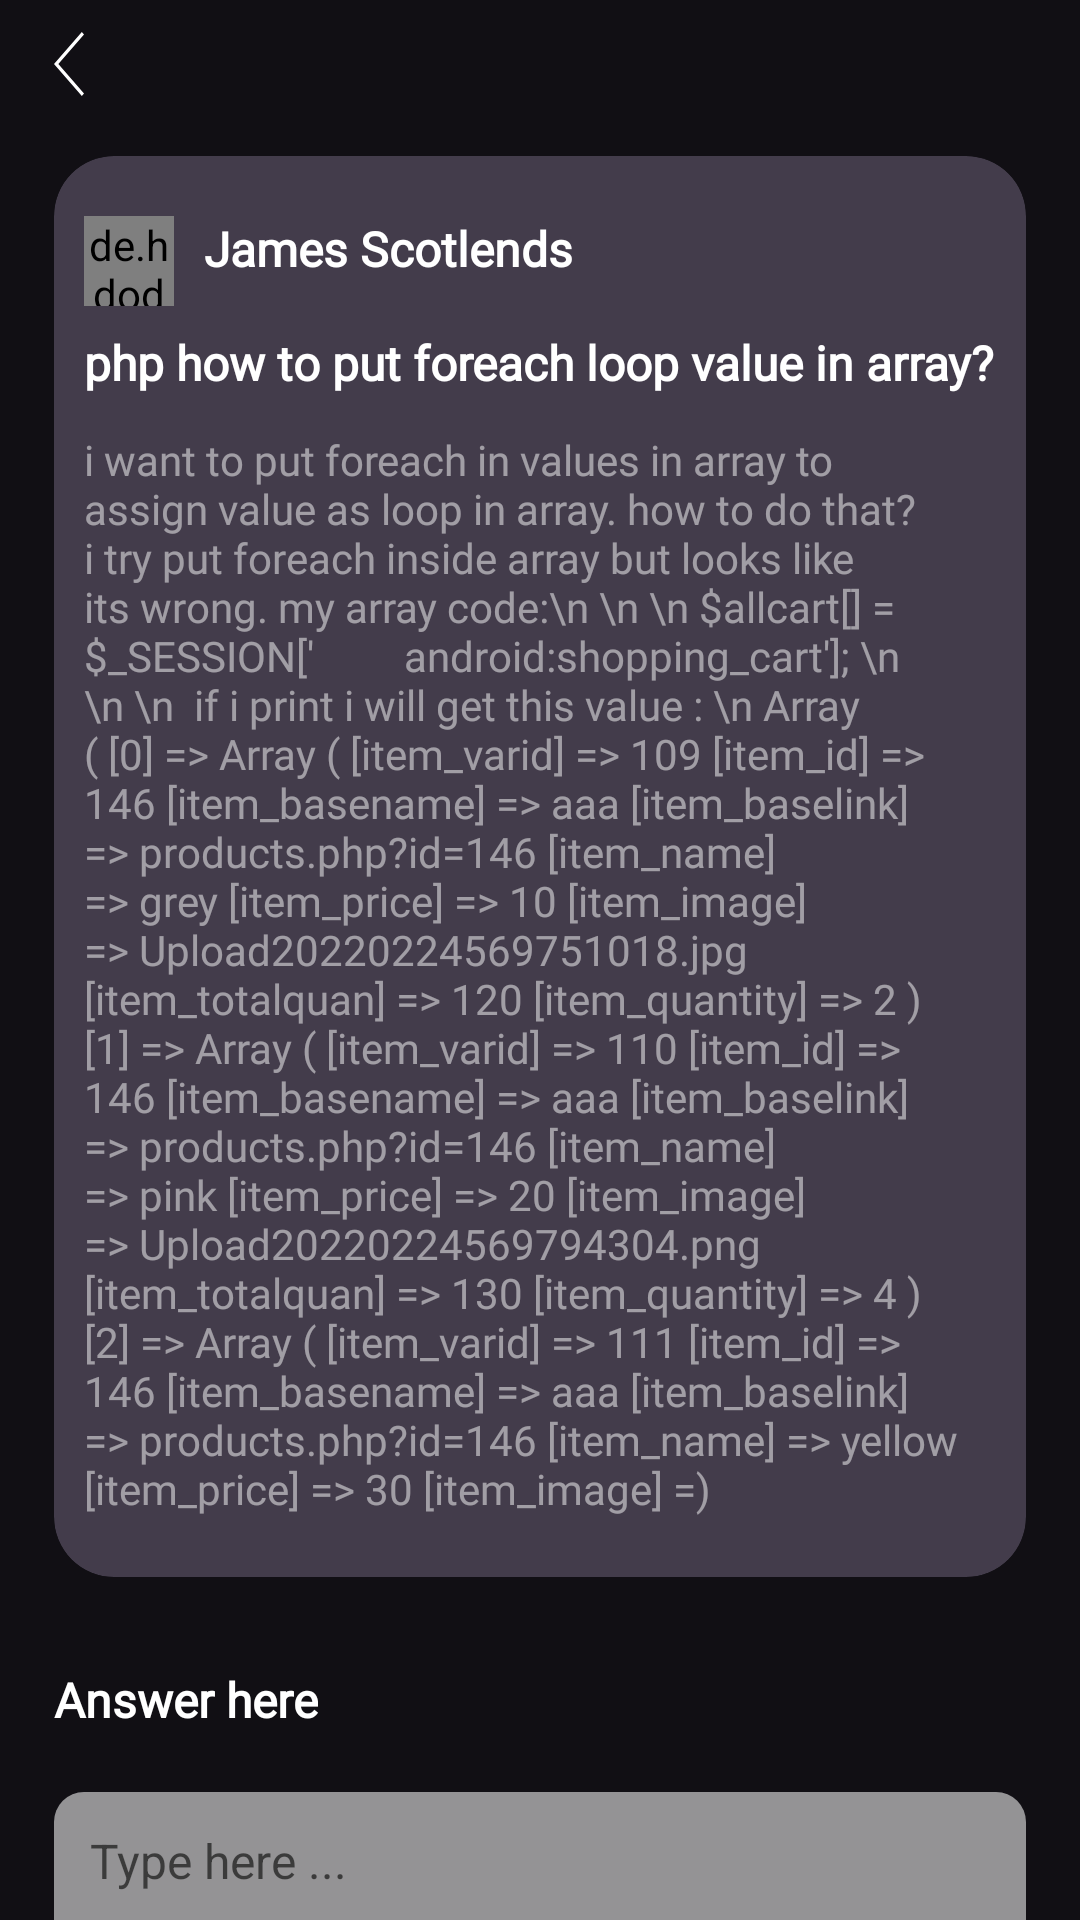

Named icons in this screenshot (1080*1920) and their bounding boxes, (x1, y1, x2, y2):
back: (54, 32, 84, 96)
